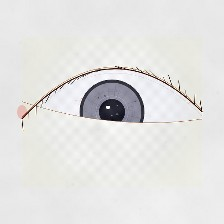pinguecula_lesion: (40, 91, 75, 119)
